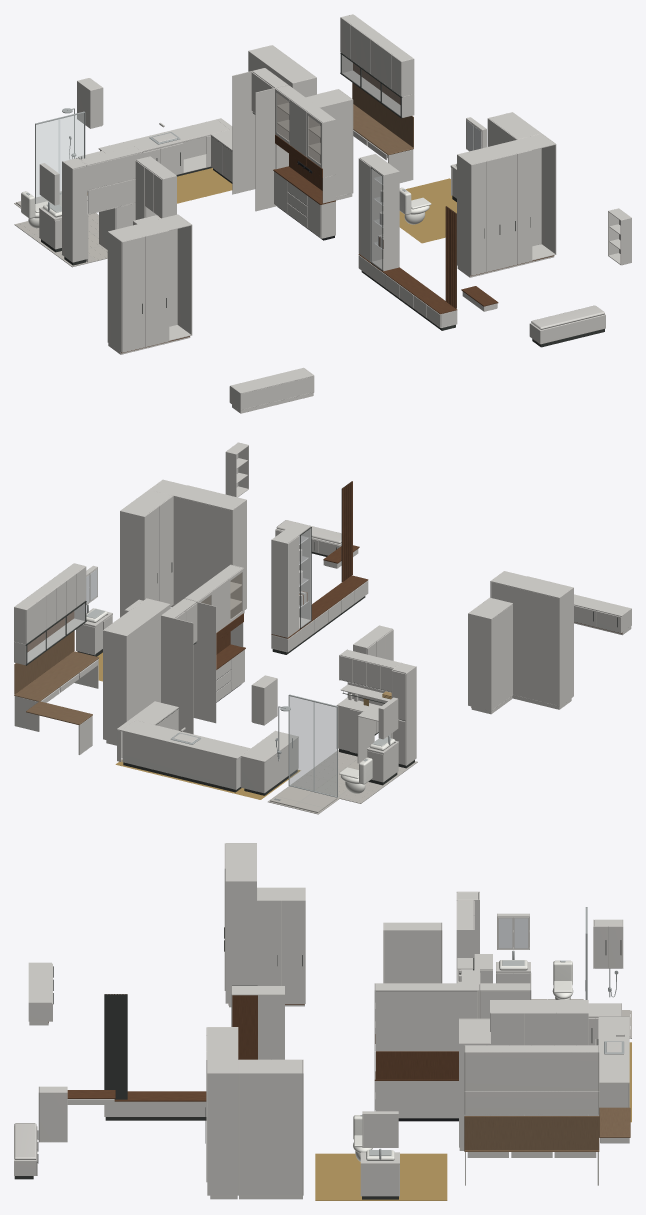
The model's file is joinery-only-v12.glb.
3 views of the same model, one above another, from view 1: azimuth 30°, elevation 25°; view 2: azimuth 150°, elevation 25°; view 3: azimuth 270°, elevation 25° (orthographic). The views are drawn at different scales.
Parts seen in each view (by area): view 1: V10_C05_main_bay2_leaf1_white_door, C12_fridge_enclosure_north, V10_C05_main_bay1_leaf1_white_door, C12_fridge_enclosure_south, V8_bathB_gold_grout, V10_C06_main_bay1_leaf1_white_door, V10_C06_main_bay2_leaf2_white_door, V10_C06_main_bay1_leaf2_white_door, V8_S01_return_back, V10_C05_main_right_side, V10_C06_main_left_side, V10_C05_main_left_side (+39 smaller); view 2: V10_C05_main_back, V10_C06_main_back, C08_back, C12_fridge_enclosure_north, V8_S01_main_back, C12_fridge_enclosure_south, V8_S01_main_right_side, Floor_bathA, SH01_V10_sliding_clear_glass, V10_C05_north_return_right_side, V10_C06_east_return_left_side, SH01_V10_fixed_clear_glass (+35 smaller); view 3: V10_C06_east_return_back, C02_upper_back, S04_back, S02_backsplash, V8_bathB_gold_grout, V10_C06_main_right_side, V10_C05_main_right_side, S05_back, C01_v10_back, C02_lower_back, V10_C05_north_return_bay2_leaf1_white_door, TV_V12_slat_shadow_back (+33 smaller).
Boxes of the visible parts, x1,y1,x2,y2 form: V10_C05_main_bay2_leaf1_white_door: (145, 230, 169, 346); C12_fridge_enclosure_north: (232, 68, 264, 194); V10_C05_main_bay1_leaf1_white_door: (122, 236, 145, 352); C12_fridge_enclosure_south: (255, 84, 288, 211); V8_bathB_gold_grout: (399, 178, 456, 243); V10_C06_main_bay1_leaf1_white_door: (471, 161, 486, 275); V10_C06_main_bay2_leaf2_white_door: (517, 150, 532, 264); V10_C06_main_bay1_leaf2_white_door: (486, 157, 501, 271); V8_S01_return_back: (320, 100, 352, 196); V10_C05_main_right_side: (177, 214, 192, 335); V10_C06_main_left_side: (457, 154, 471, 275); V10_C05_main_left_side: (107, 231, 122, 352); V10_C05_main_back: (491, 582, 558, 705); V10_C06_main_back: (173, 496, 231, 604); C08_back: (123, 731, 235, 789); C12_fridge_enclosure_north: (161, 615, 193, 734); V8_S01_main_back: (127, 604, 169, 721); C12_fridge_enclosure_south: (184, 598, 216, 723); V8_S01_main_right_side: (103, 630, 126, 742); Floor_bathA: (268, 749, 417, 814); SH01_V10_sliding_clear_glass: (289, 696, 314, 791); V10_C05_north_return_right_side: (468, 613, 491, 711); V10_C06_east_return_left_side: (120, 510, 143, 617); SH01_V10_fixed_clear_glass: (313, 702, 336, 796); V10_C06_east_return_back: (239, 1074, 302, 1194); C02_upper_back: (376, 991, 477, 1050); S04_back: (465, 1052, 598, 1090); S02_backsplash: (464, 1116, 599, 1150); V8_bathB_gold_grout: (315, 1153, 447, 1200); V10_C06_main_right_side: (207, 1072, 238, 1195); V10_C05_main_right_side: (225, 880, 256, 1003); S05_back: (465, 1091, 598, 1114); C01_v10_back: (384, 930, 441, 983); C02_lower_back: (376, 1081, 458, 1117); V10_C05_north_return_bay2_leaf1_white_door: (281, 900, 305, 1003); TV_V12_slat_shadow_back: (104, 994, 127, 1099).
Size of the model in its own units: 10.54 by 2.85 by 11.91.
Materials: 19 (5 with a texture image).
